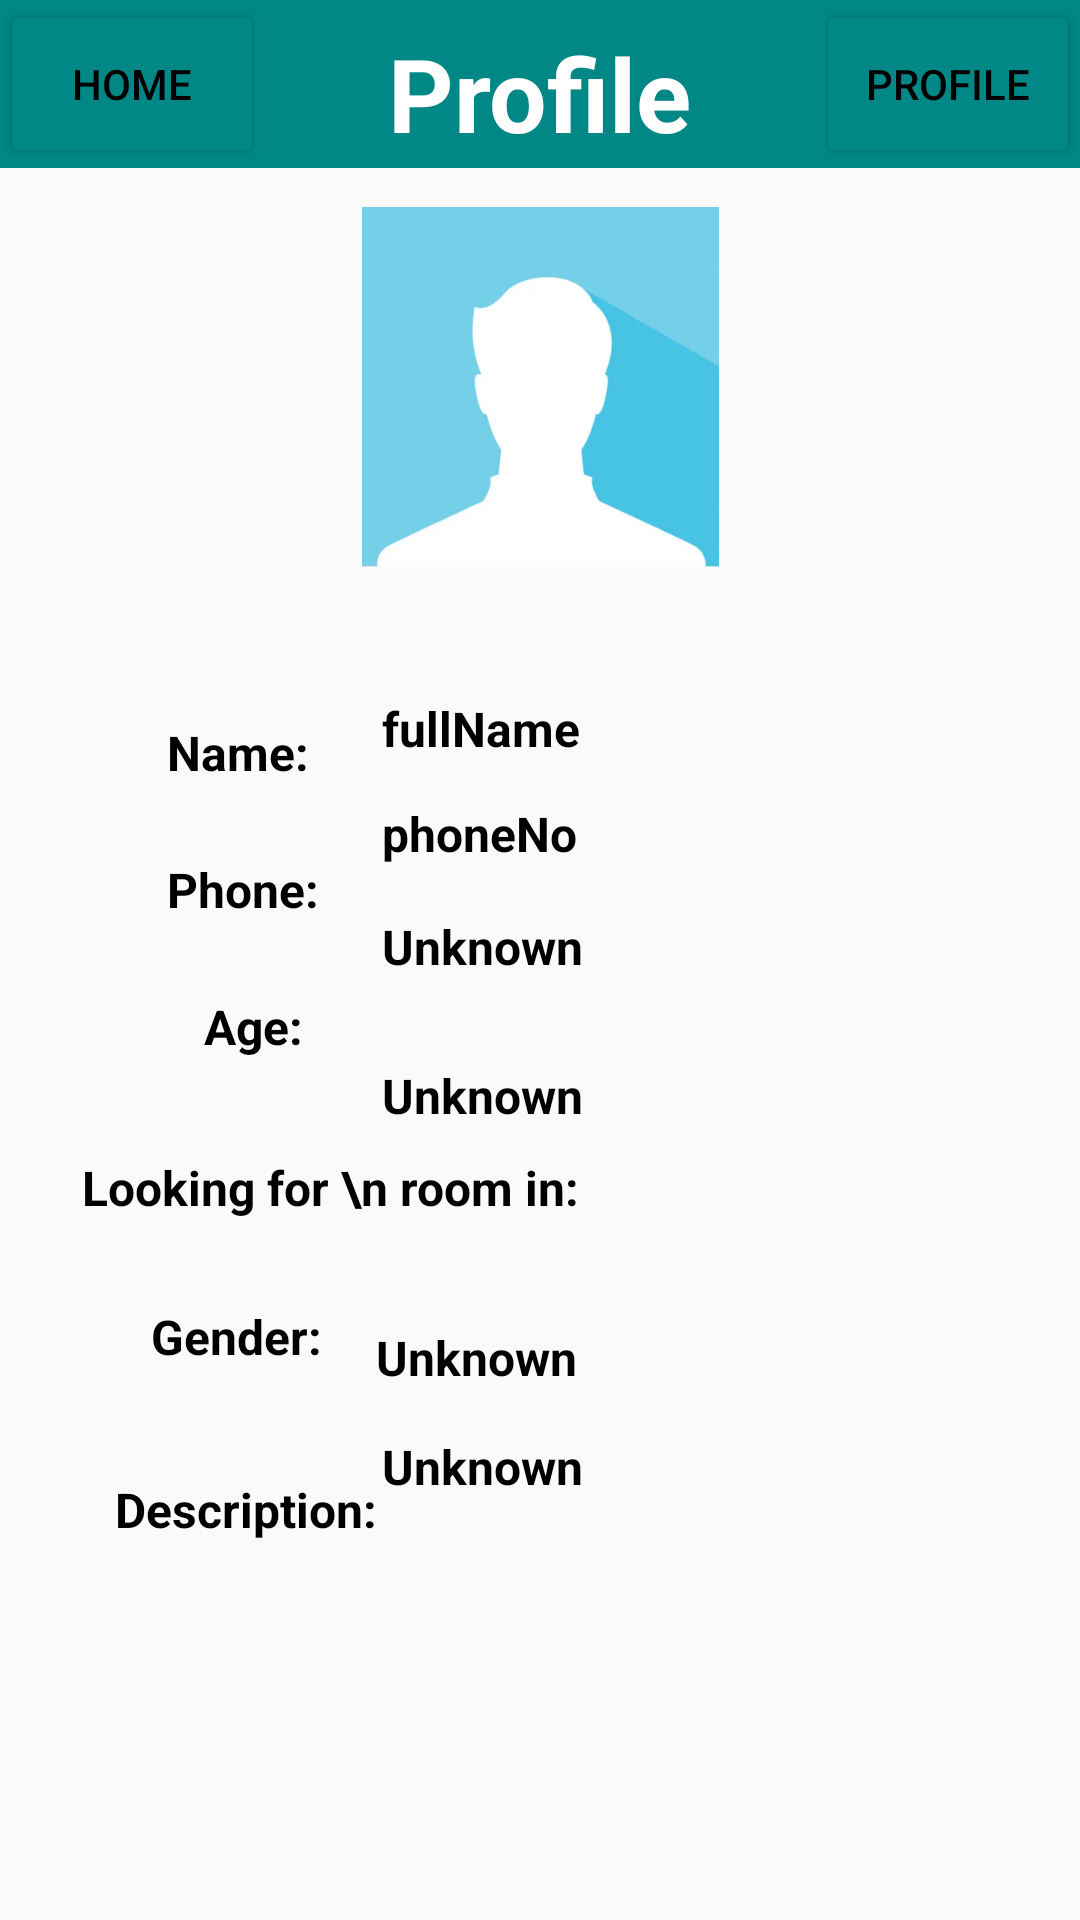

Screen size 1080px×1920px. Icon name, then its box in pixels as (x1, y1, x2, y2):
maleavatar: (362, 207, 719, 567)
